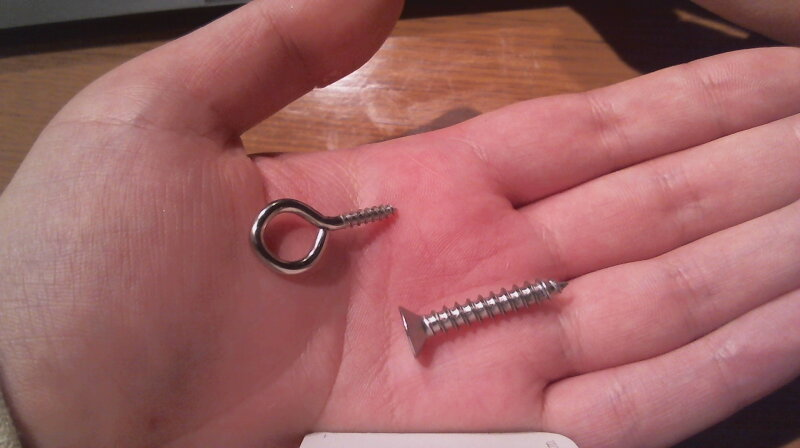O001: (245, 194, 403, 280)
S001: (392, 271, 569, 349)
